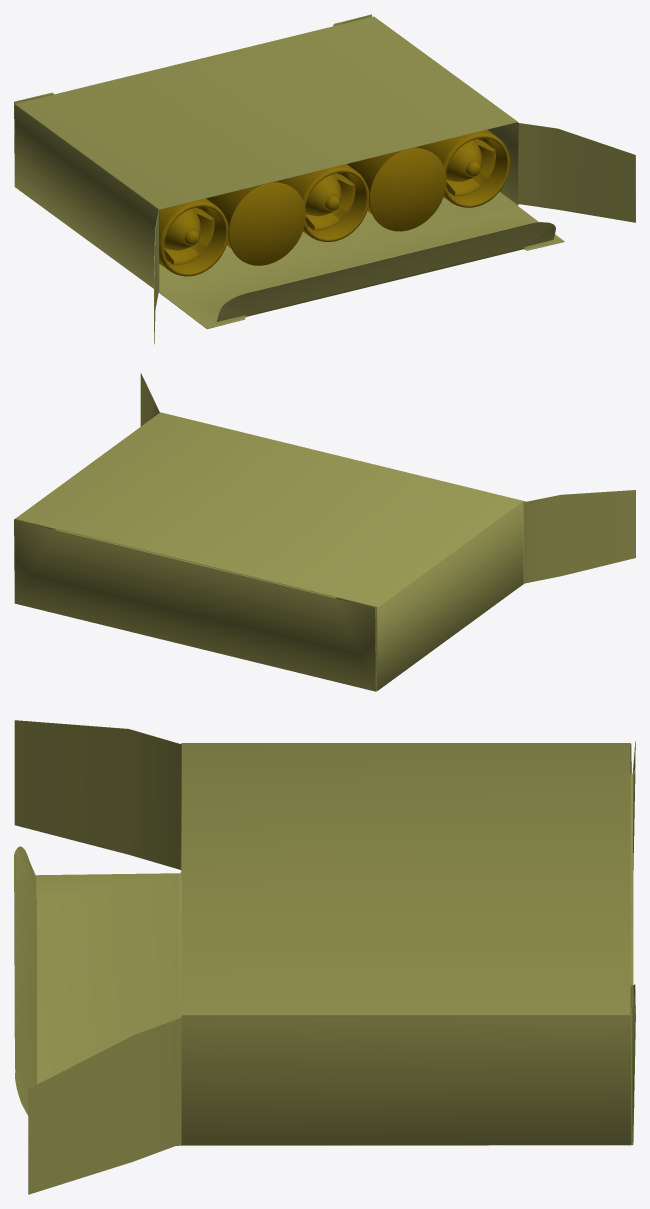
File: BoxOn5_open_12ga_APslug.FBX
3 views of the same model, one above another, from view 1: azimuth 30°, elevation 25°; view 2: azimuth 150°, elevation 25°; view 3: azimuth 270°, elevation 25° (orthographic). The views are drawn at different scales.
Parts seen in each view (by area): view 1: BoxOn5_12ga_APslug; view 2: BoxOn5_12ga_APslug; view 3: BoxOn5_12ga_APslug.
Part boxes in pixels (x1,y1,x2,y2): BoxOn5_12ga_APslug: (14, 14, 635, 344); BoxOn5_12ga_APslug: (14, 373, 635, 691); BoxOn5_12ga_APslug: (14, 720, 635, 1194).
Bounding box in the file's own units: 12.95 × 9.21 × 2.2.
